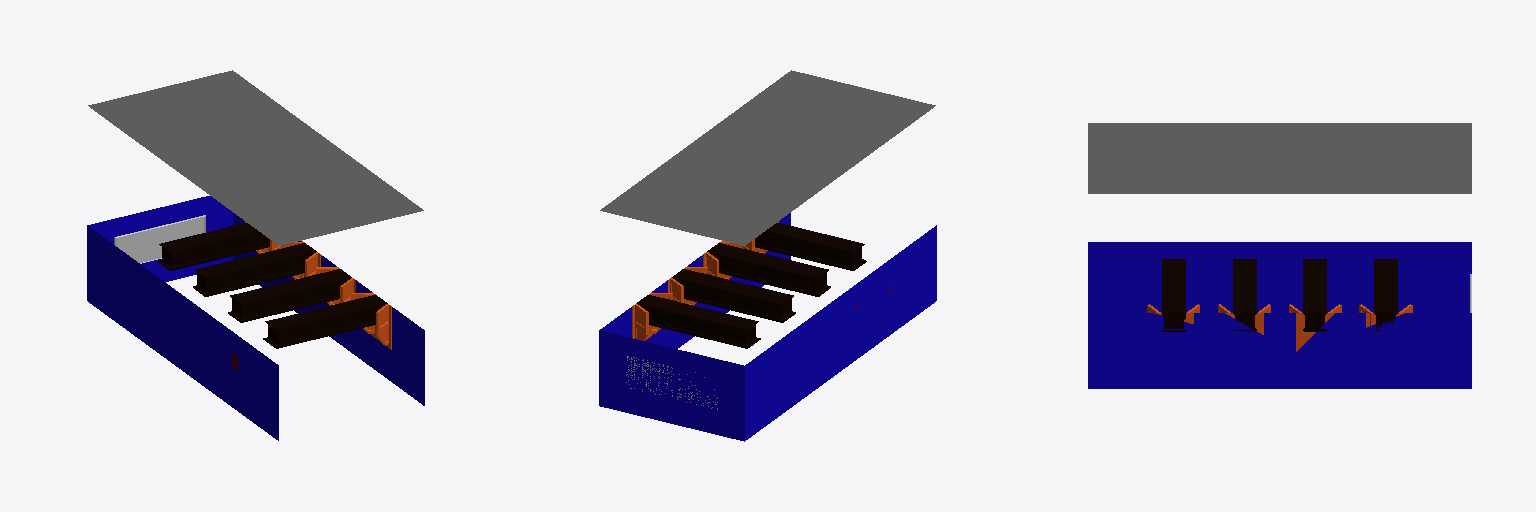
Rendered from room.obj.
The picture shows the model from 3 angles: view 1: azimuth 30°, elevation 25°; view 2: azimuth 150°, elevation 25°; view 3: azimuth 270°, elevation 25°; orthographic projection.
Visible parts, largest first — view 1: Floor, PareteDx, tables, PareteSx, PareteFronte, pICTURE; view 2: Floor, PareteDx, tables, PareteFronte, PareteSx; view 3: Floor, PareteSx, PareteDx, tables, ContornoPorta.
Boxes of the visible parts, x1,y1,x2,y2 form: Floor: [88, 70, 423, 245]; PareteDx: [87, 225, 278, 440]; tables: [157, 223, 387, 348]; PareteSx: [233, 213, 424, 405]; PareteFronte: [88, 196, 232, 281]; pICTURE: [114, 215, 205, 263]; Floor: [600, 70, 935, 245]; PareteDx: [745, 225, 936, 440]; tables: [637, 223, 866, 348]; PareteFronte: [599, 330, 744, 441]; PareteSx: [600, 213, 790, 348]; Floor: [1088, 123, 1471, 193]; PareteSx: [1088, 313, 1471, 388]; PareteDx: [1088, 242, 1471, 312]; tables: [1162, 259, 1397, 331]; ContornoPorta: [1155, 313, 1404, 351].
Bounding box in the file's own units: 7 × 9 × 16.